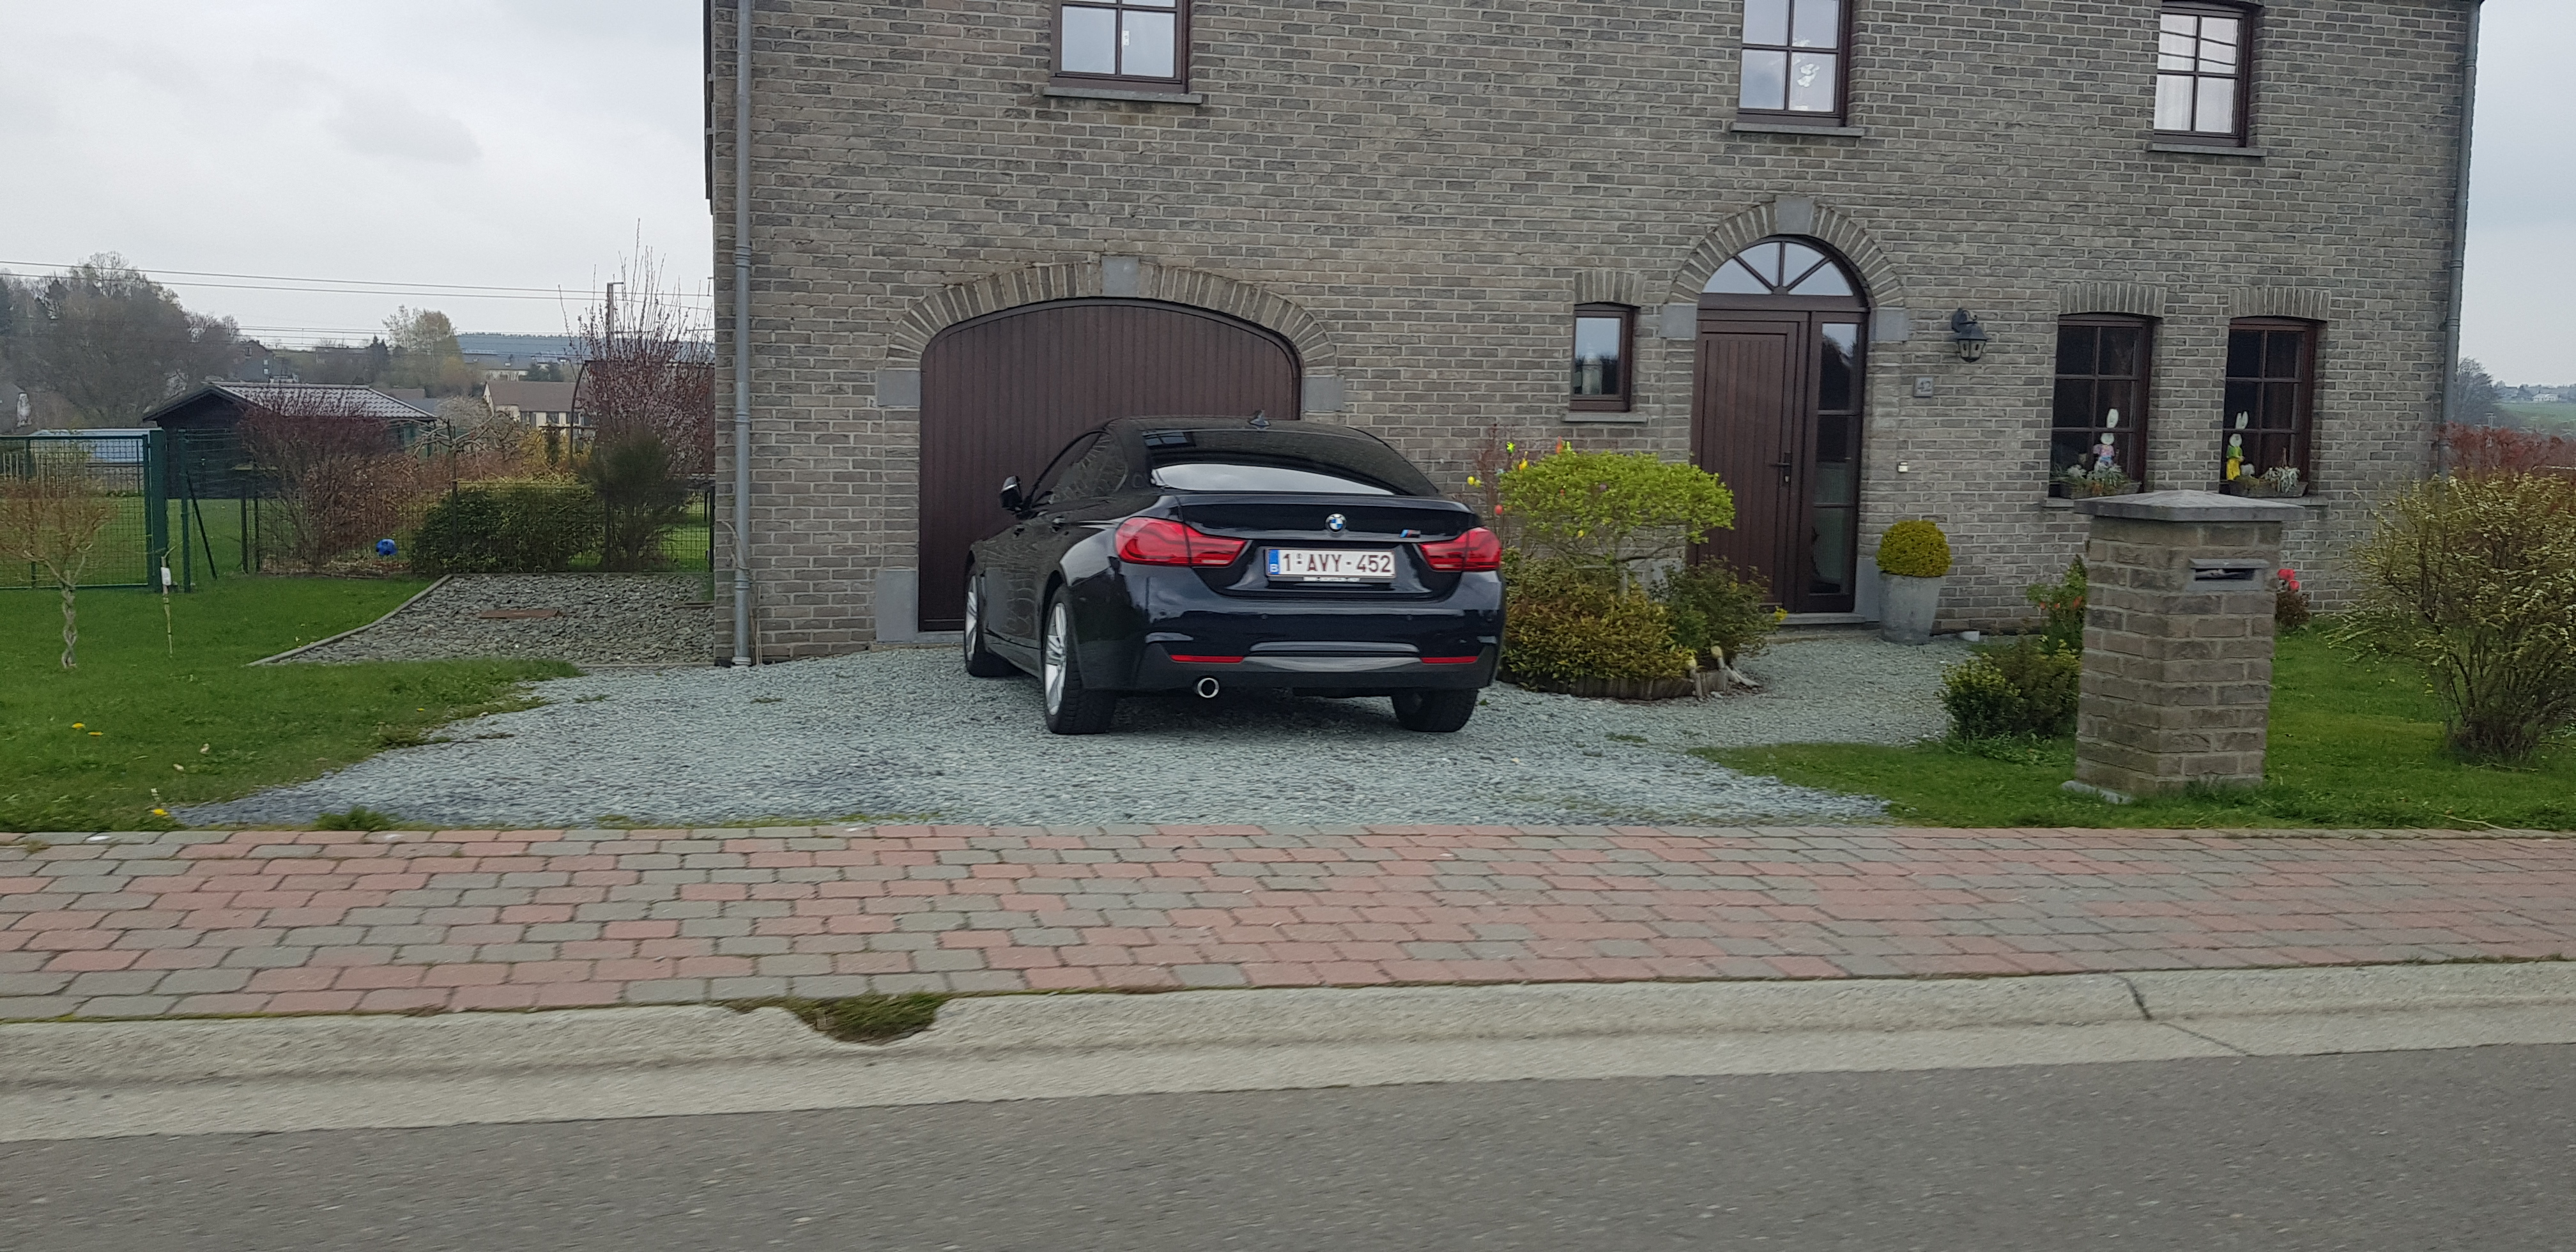licenceplate: (1264, 547, 1395, 577)
